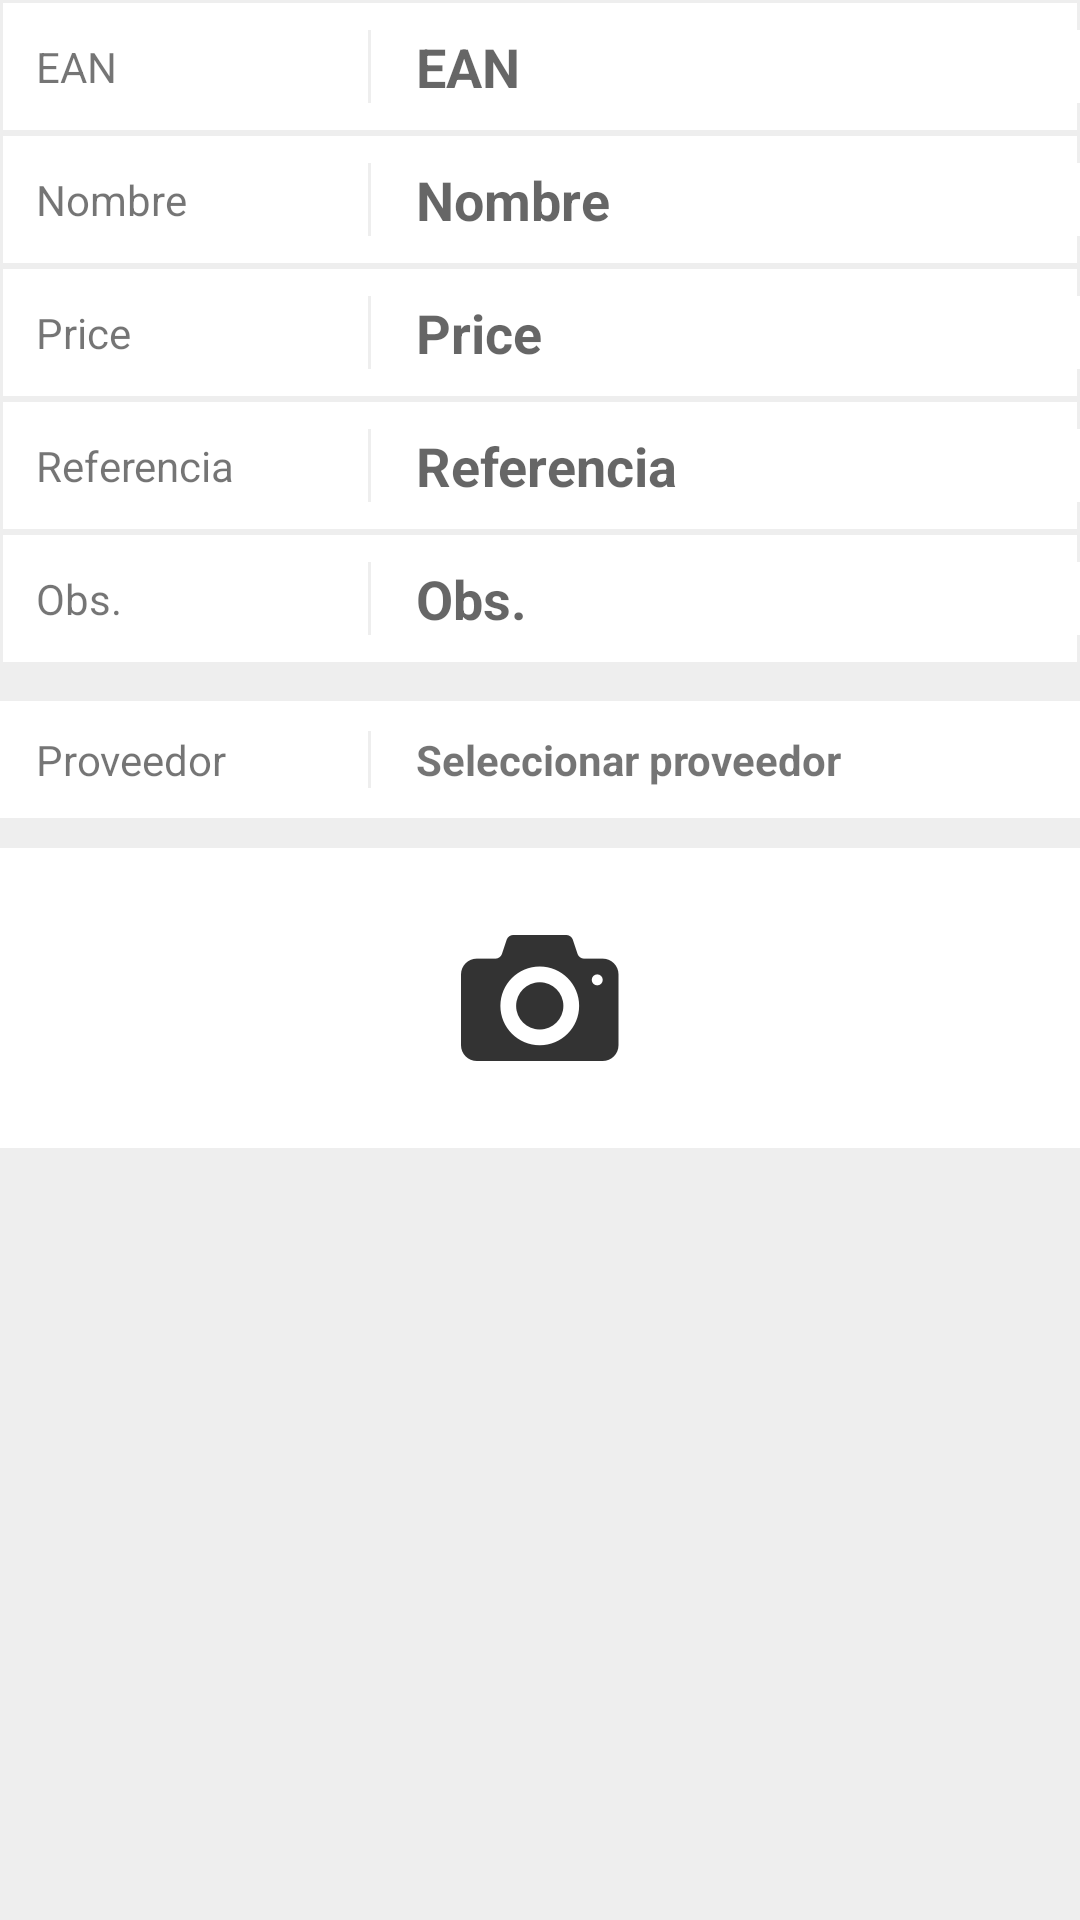

Icon click points for this 1080 × 1920 phone screenshot, format (x=x, y=y):
photo camera: (x=540, y=998)
